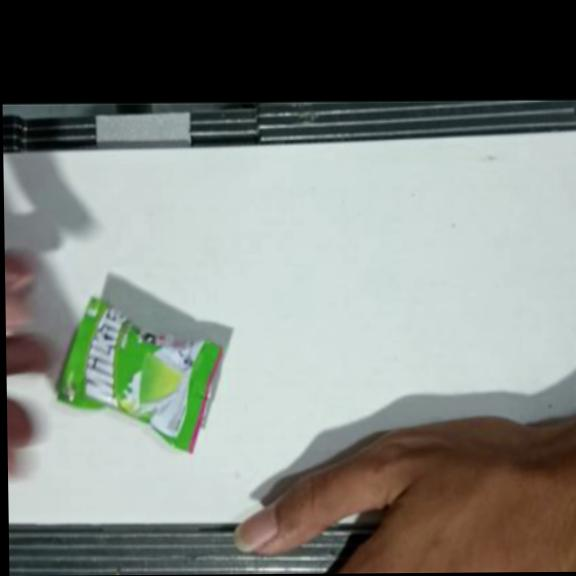Plastik: (48, 296, 225, 451)
